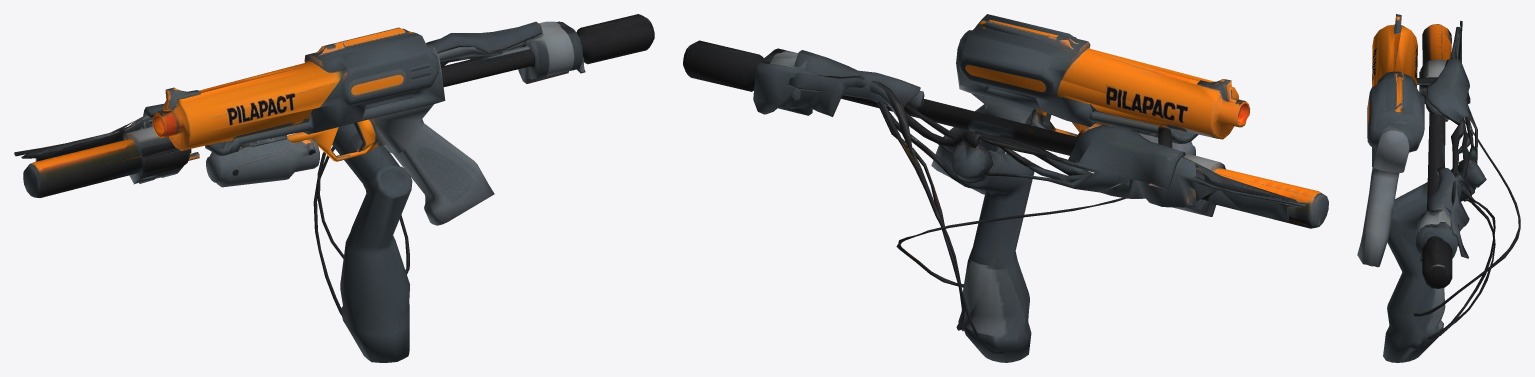
Rendered from blaster.glb.
3 views of the same model, side by side, from view 1: azimuth 30°, elevation 25°; view 2: azimuth 150°, elevation 25°; view 3: azimuth 270°, elevation 25° (orthographic). The views are drawn at different scales.
Size of the model in its own units: 0.958 by 0.4775 by 0.2729.
1 material, 1 textured.
